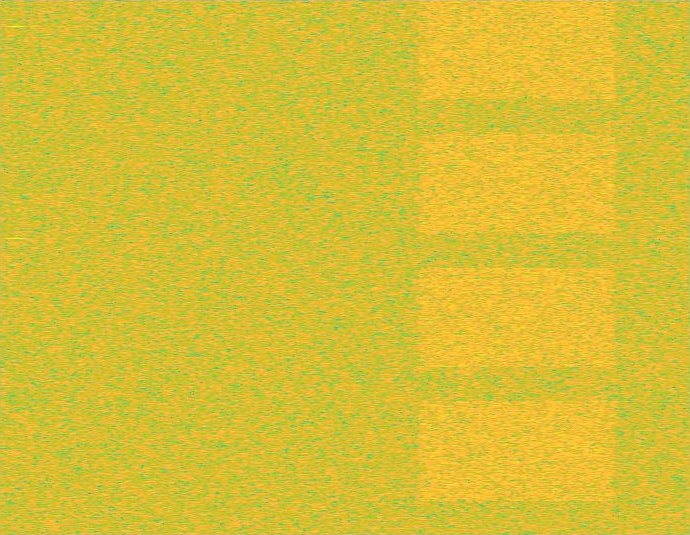5G: (414, 0, 621, 534)
Radar: (9, 0, 23, 534)
